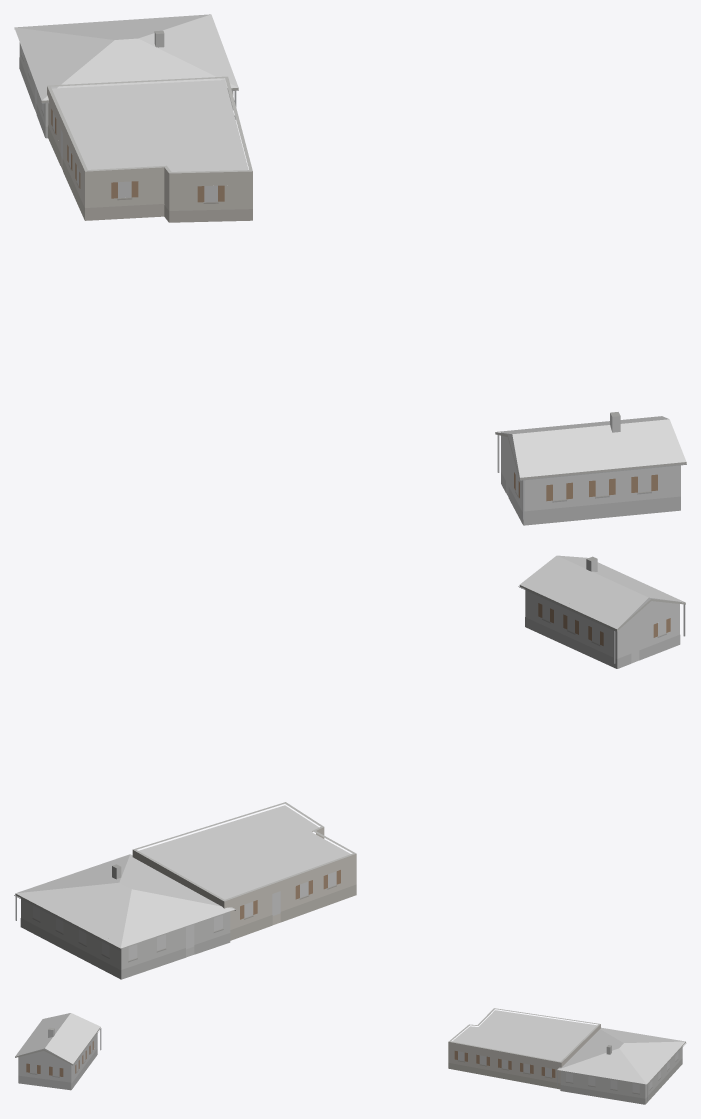
The picture shows the model from 3 angles, top to bottom: view 1: azimuth 30°, elevation 25°; view 2: azimuth 150°, elevation 25°; view 3: azimuth 270°, elevation 25°; orthographic projection. The views are drawn at different scales.
Visible parts, largest first — view 1: bld; view 2: bld; view 3: bld.
Part boxes in pixels (x1=…): bld: x1=14, y1=14, x2=686, y2=525; bld: x1=14, y1=555, x2=685, y2=979; bld: x1=15, y1=1008, x2=686, y2=1104.
Bounding box in the file's own units: 22.63 × 6.69 × 90.47.
